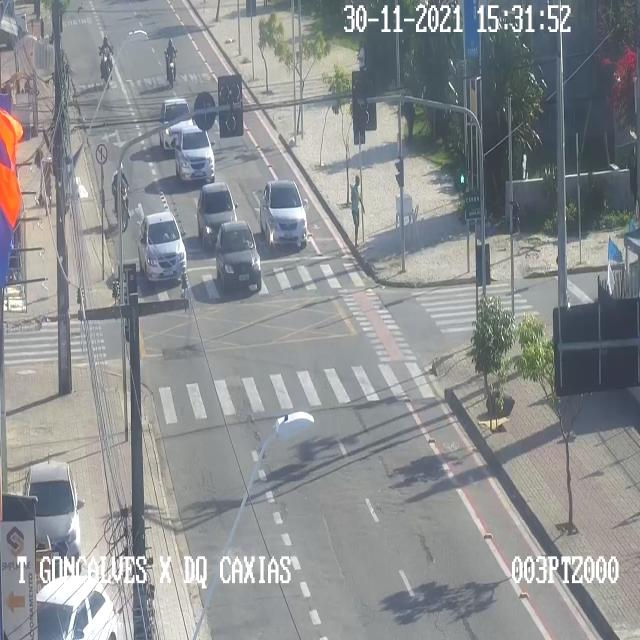Car: (26, 460, 84, 564), (35, 575, 117, 639), (137, 209, 187, 283), (216, 220, 262, 298), (260, 180, 310, 248), (196, 183, 238, 239), (174, 128, 212, 180), (159, 98, 193, 152)
Motorcycle: (99, 36, 115, 90), (165, 38, 176, 92)
